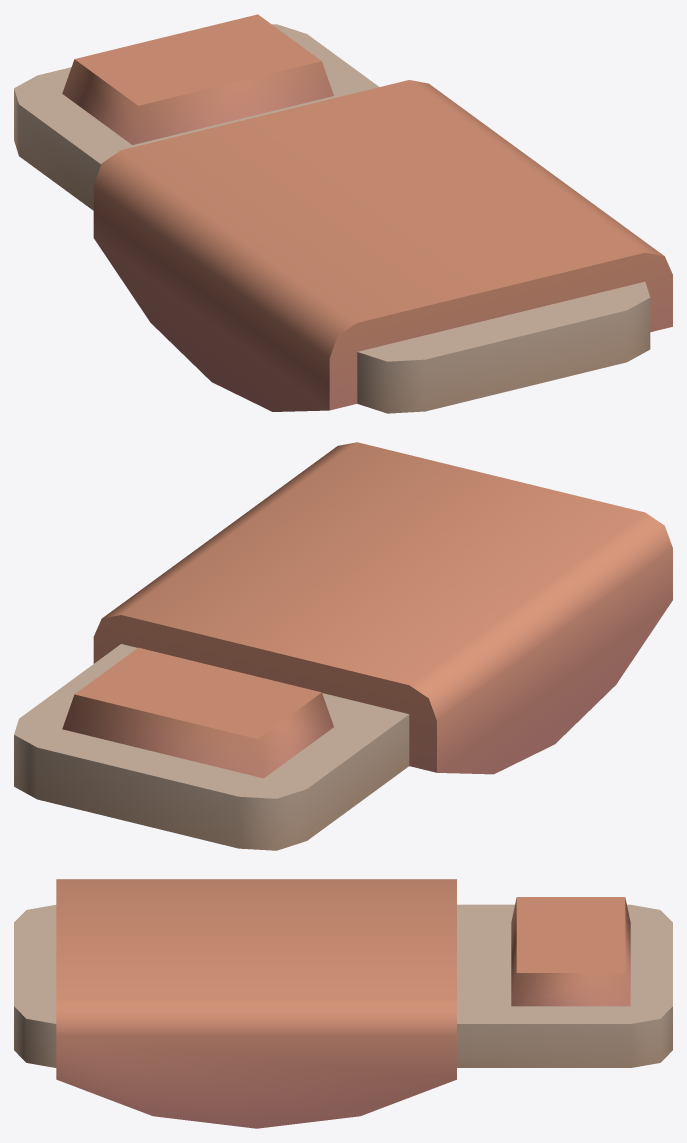
The model's file is bedroll.glb.
The picture shows the model from 3 angles, top to bottom: view 1: azimuth 30°, elevation 25°; view 2: azimuth 150°, elevation 25°; view 3: azimuth 270°, elevation 25°; orthographic projection. The views are drawn at different scales.
Parts seen in each view (by area): view 1: blanket, bedroll; view 2: blanket, bedroll; view 3: blanket, bedroll.
Part boxes in pixels (x1=…): blanket: x1=93, y1=80, x2=672, y2=411; bedroll: x1=14, y1=14, x2=650, y2=413; blanket: x1=93, y1=442, x2=672, y2=774; bedroll: x1=14, y1=644, x2=409, y2=850; blanket: x1=56, y1=879, x2=456, y2=1128; bedroll: x1=14, y1=897, x2=672, y2=1067.
Size of the model in its own units: 0.3104 by 0.1248 by 0.6076.
